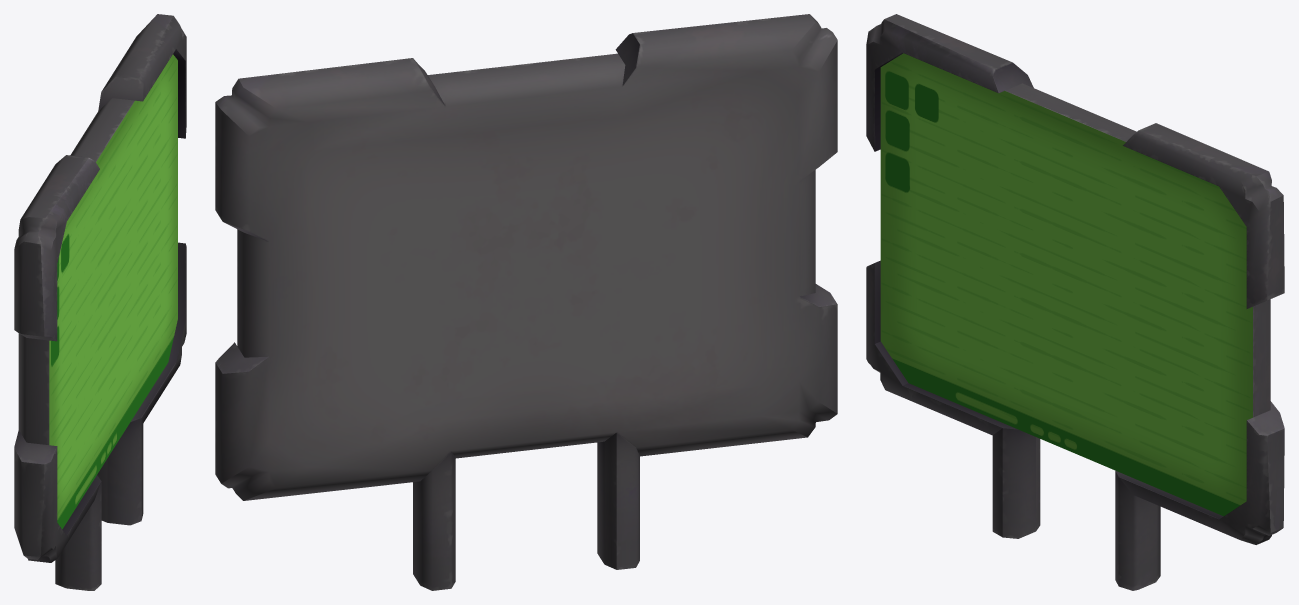
File: computer.fbx
The picture shows the model from 3 angles, left to right: view 1: azimuth 30°, elevation 25°; view 2: azimuth 150°, elevation 25°; view 3: azimuth 270°, elevation 25°; orthographic projection. The views are drawn at different scales.
Parts seen in each view (by area): view 1: bo.comp DONE; view 2: bo.comp DONE; view 3: bo.comp DONE.
Boxes of the visible parts, x1=… form: bo.comp DONE: x1=14, y1=14, x2=186, y2=590; bo.comp DONE: x1=215, y1=14, x2=837, y2=590; bo.comp DONE: x1=866, y1=14, x2=1284, y2=590.
Bounding box in the file's own units: 50.28 × 61.04 × 50.28.
